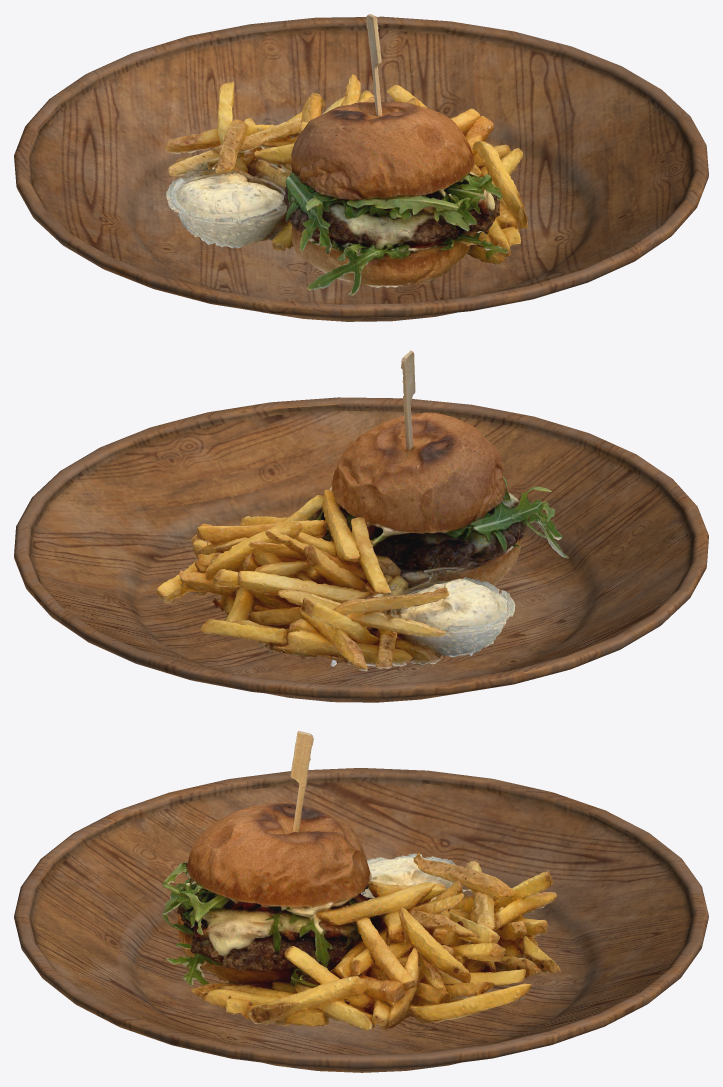
File: burger-final.glb
The picture shows the model from 3 angles, top to bottom: view 1: azimuth 30°, elevation 25°; view 2: azimuth 150°, elevation 25°; view 3: azimuth 270°, elevation 25°; orthographic projection.
Parts seen in each view (by area): view 1: Plate, Object_2; view 2: Plate, Object_2; view 3: Plate, Object_2.
Part boxes in pixels (x1,y1,x2,y2): Plate: (14,16,708,321); Object_2: (165,14,528,295); Plate: (14,397,708,702); Object_2: (156,350,568,671); Plate: (14,768,708,1072); Object_2: (162,731,560,1030).
Bounding box in the file's own units: 0.26 × 0.1005 × 0.26.
Materials: 2 (2 with a texture image).
